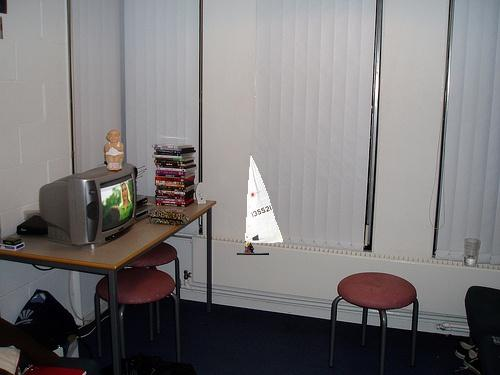tampered: (237, 155, 284, 255)
